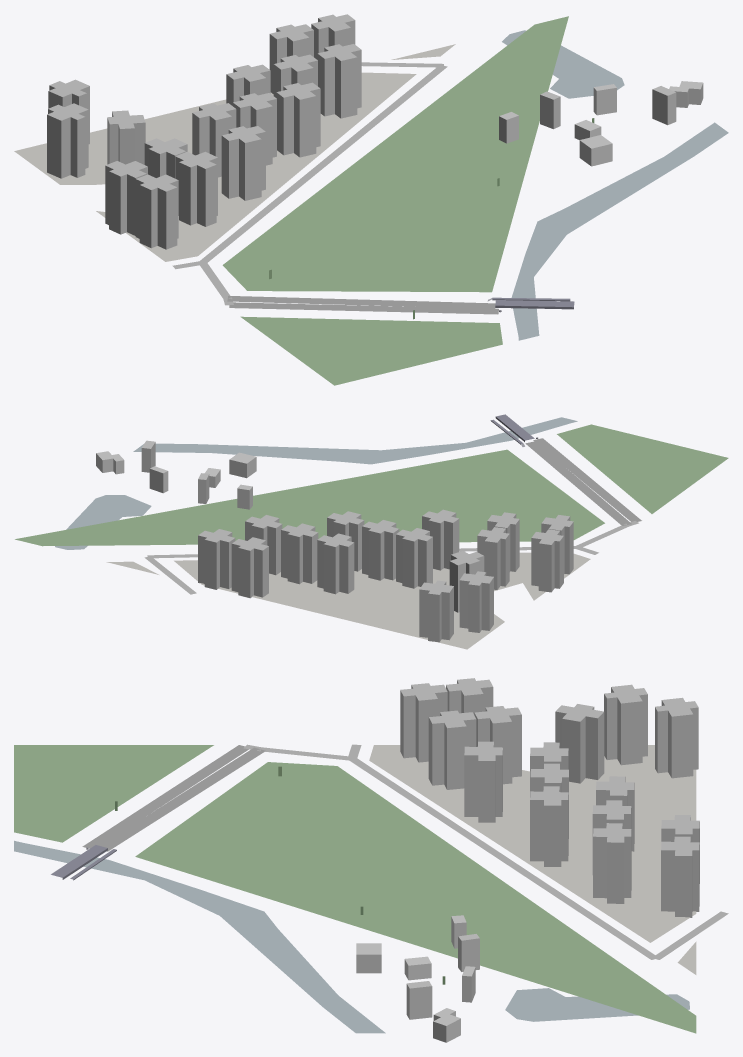
3 views of the same model, one above another, from view 1: azimuth 30°, elevation 25°; view 2: azimuth 150°, elevation 25°; view 3: azimuth 270°, elevation 25° (orthographic). The views are drawn at different scales.
Bounding box in the file's own units: 523 × 50.87 × 524.
